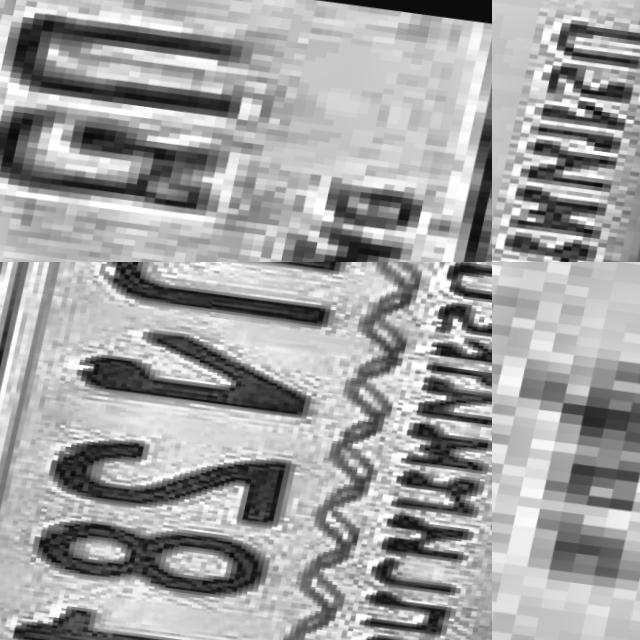license-plate: (0, 262, 492, 640), (0, 0, 492, 262), (492, 262, 640, 640), (492, 0, 640, 262)
